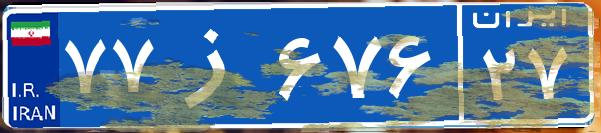2: (475, 38, 525, 113)
6: (385, 28, 445, 110), (273, 28, 330, 110)
7: (330, 28, 385, 110), (57, 26, 110, 107), (110, 28, 158, 105), (525, 38, 570, 115)
ز: (158, 15, 273, 115)
